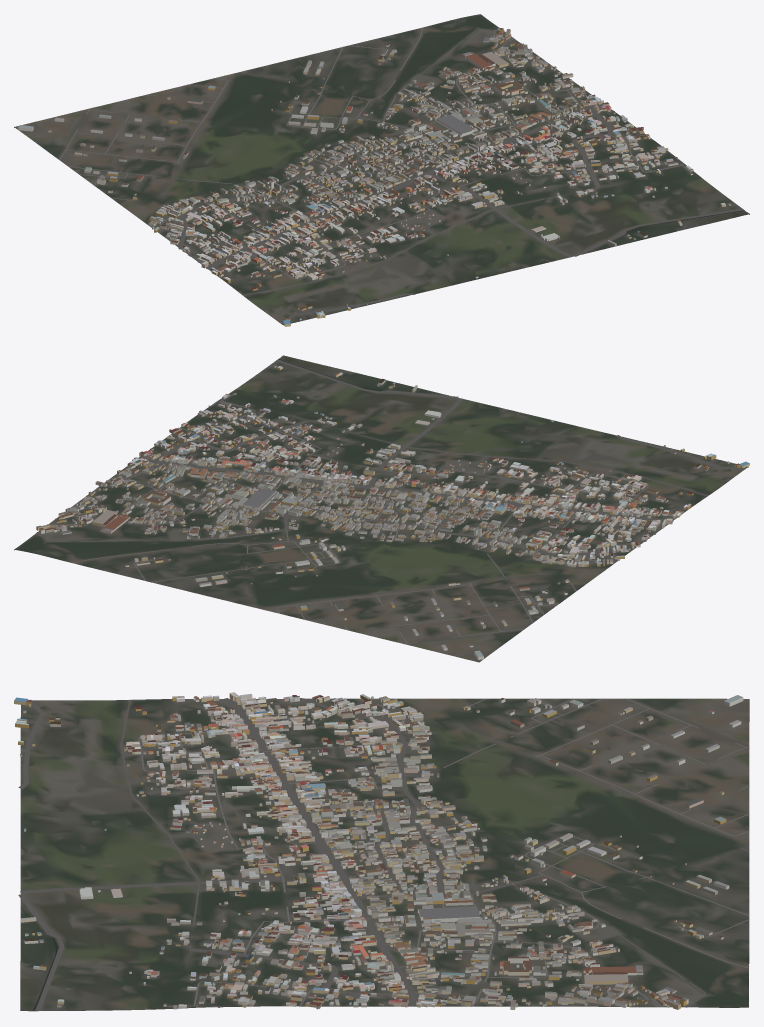
The picture shows the model from 3 angles, top to bottom: view 1: azimuth 30°, elevation 25°; view 2: azimuth 150°, elevation 25°; view 3: azimuth 270°, elevation 25°; orthographic projection. The views are drawn at different scales.
Parts seen in each view (by area): view 1: ground, buildings, roads; view 2: ground, buildings, roads; view 3: ground, buildings, roads.
Boxes of the visible parts, bbox=[...] form: ground: bbox=[14, 14, 749, 325]; buildings: bbox=[18, 28, 730, 326]; roads: bbox=[59, 27, 743, 323]; ground: bbox=[14, 355, 748, 662]; buildings: bbox=[36, 365, 749, 659]; roads: bbox=[36, 359, 745, 643]; ground: bbox=[20, 698, 749, 1011]; buildings: bbox=[14, 692, 743, 1009]; roads: bbox=[18, 698, 749, 1010].
Bounding box in the file's own units: 1422 × 37.94 × 1415.
